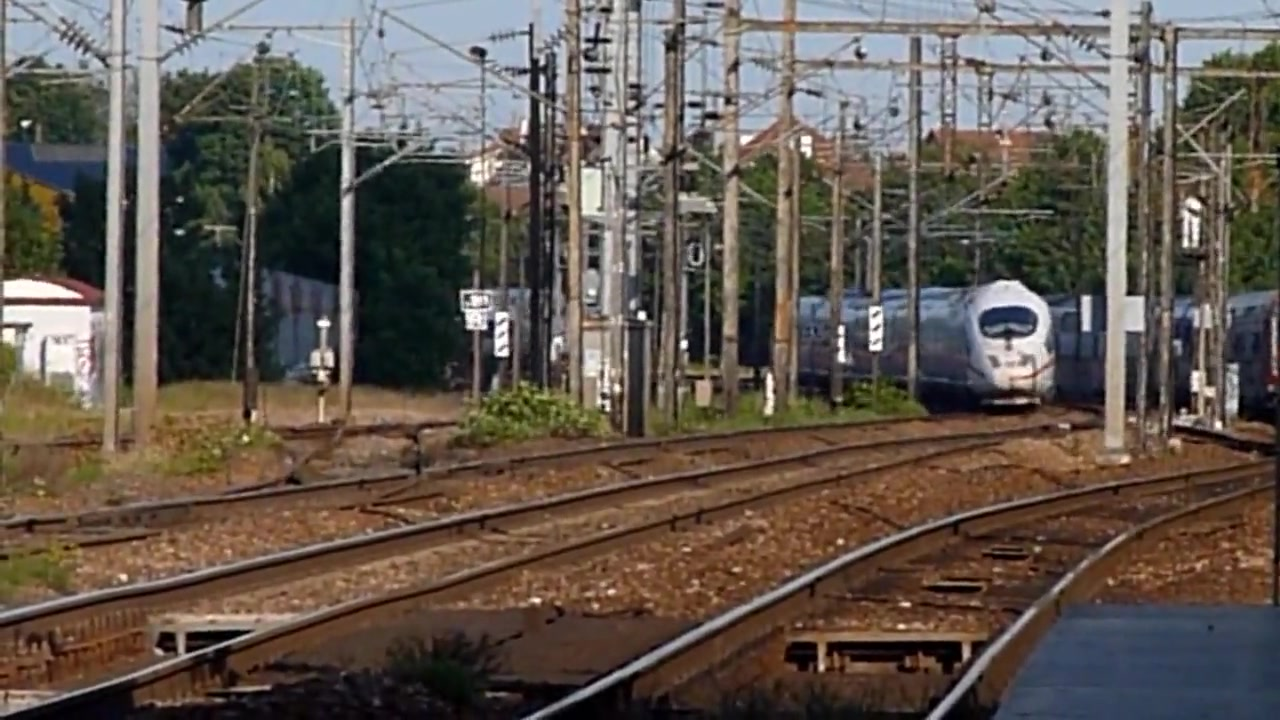train: (791, 276, 1066, 412)
